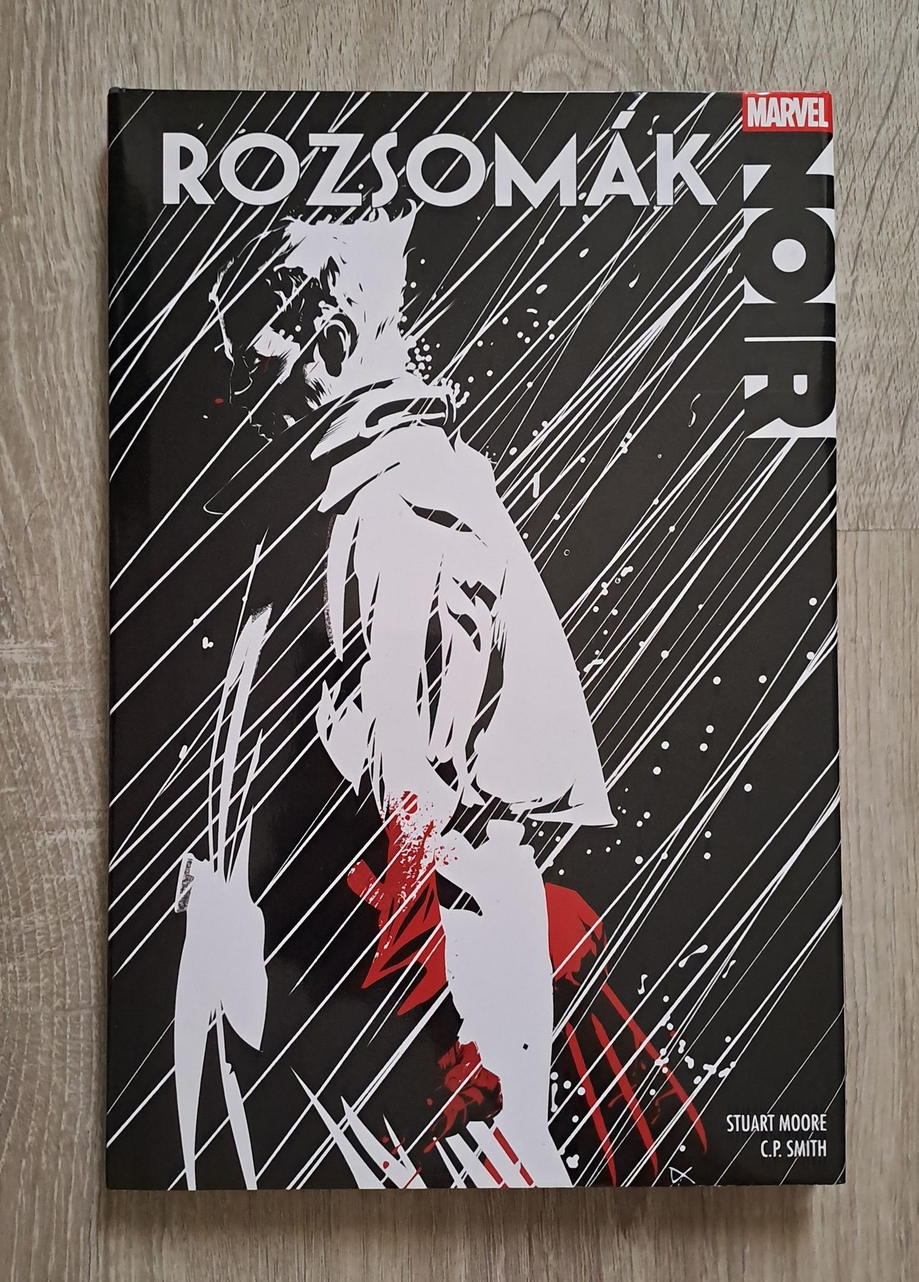comic: (108, 91, 843, 1187)
